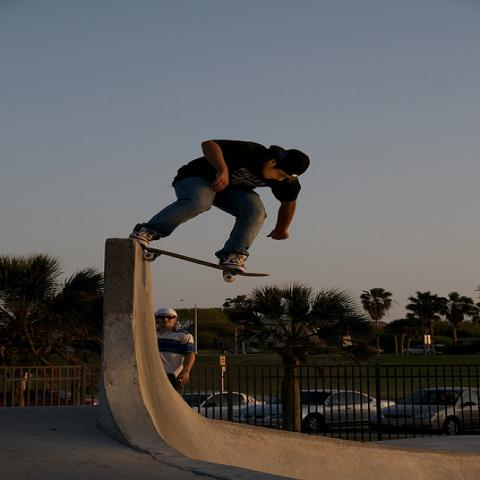car: (235, 386, 390, 428), (371, 385, 479, 435), (181, 391, 263, 422), (2, 391, 98, 407), (226, 346, 263, 354), (403, 344, 425, 354)
